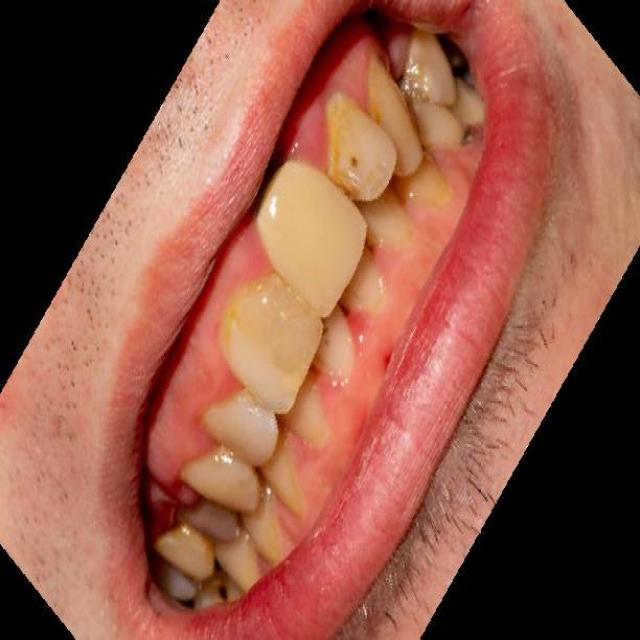caries: (205, 567, 246, 615), (453, 112, 482, 168)
